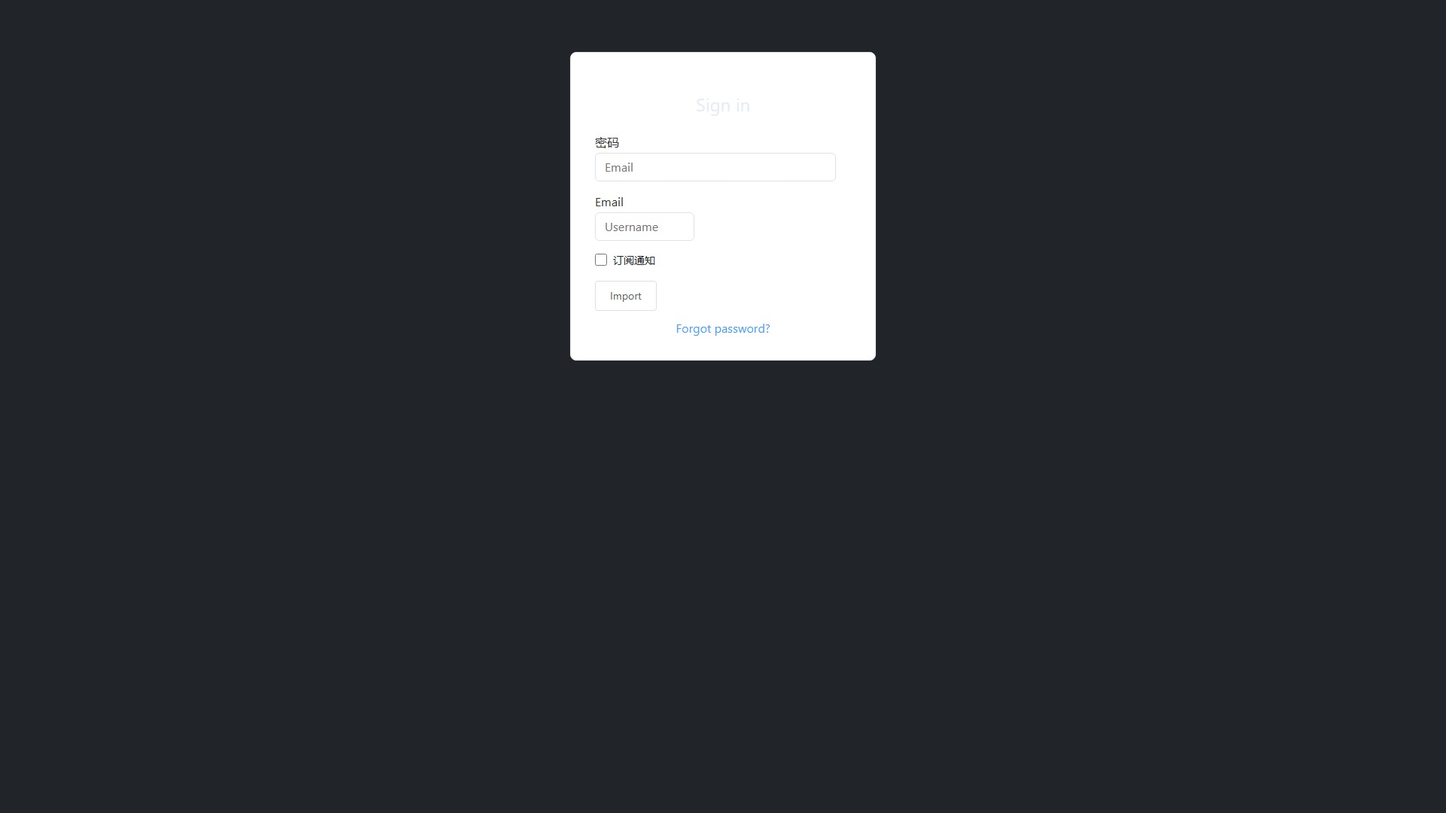button: (595, 281, 657, 311)
checkbox: (595, 254, 607, 266)
icon: (613, 253, 655, 267)
input: (595, 153, 836, 181), (595, 212, 694, 241)
link: (676, 320, 770, 336)
radio: (595, 253, 655, 267)
